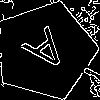A: (20, 25, 77, 83)
